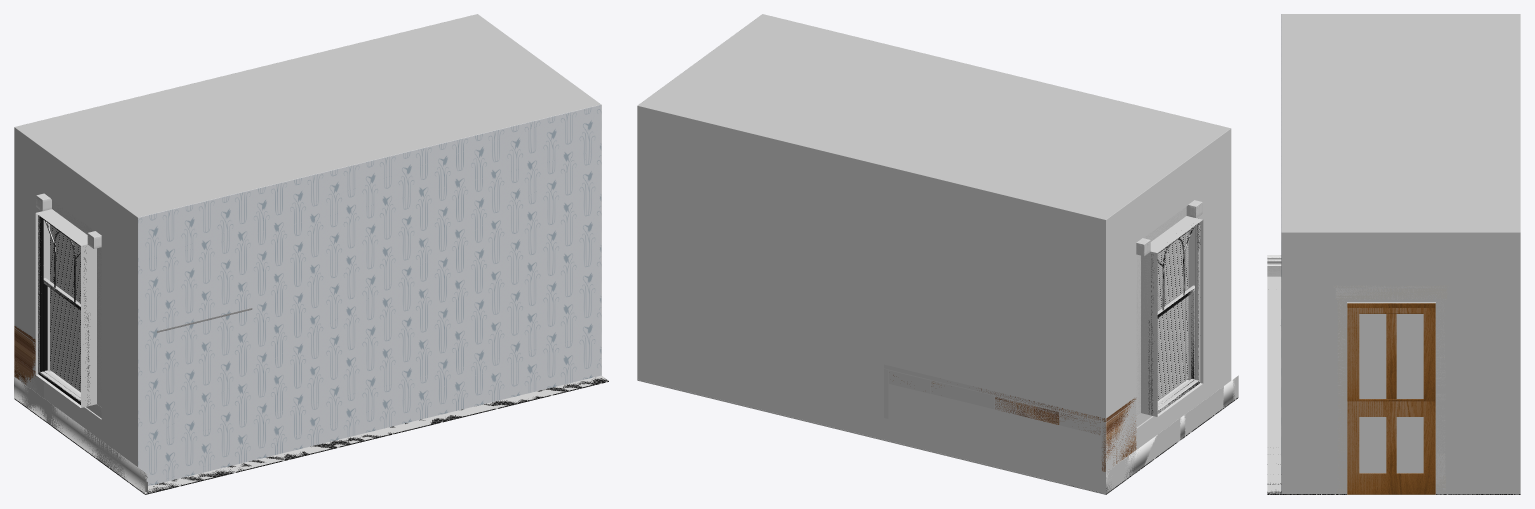
Rendered from bathroom.glb.
3 views of the same model, side by side, from view 1: azimuth 30°, elevation 25°; view 2: azimuth 150°, elevation 25°; view 3: azimuth 270°, elevation 25° (orthographic). The views are drawn at different scales.
Visible parts, largest first — view 1: bathroom_static, COL_static, blind_panel; view 2: bathroom_static, COL_static, blind_panel; view 3: bathroom_static, DYN_door_hall, I_door_hall, COL_static.
Part boxes in pixels (x1=…): bathroom_static: x1=14, y1=14, x2=608, y2=494; COL_static: x1=14, y1=193, x2=607, y2=492; blind_panel: x1=50, y1=224, x2=80, y2=392; bathroom_static: x1=637, y1=14, x2=1238, y2=494; COL_static: x1=637, y1=200, x2=1238, y2=494; blind_panel: x1=1157, y1=232, x2=1188, y2=400; bathroom_static: x1=1267, y1=14, x2=1520, y2=494; DYN_door_hall: x1=1347, y1=303, x2=1435, y2=494; I_door_hall: x1=1347, y1=302, x2=1435, y2=494; COL_static: x1=1267, y1=255, x2=1520, y2=494.
Bounding box in the file's own units: 5.19 × 2.82 × 2.45.
Materials: 42 (15 with a texture image).
